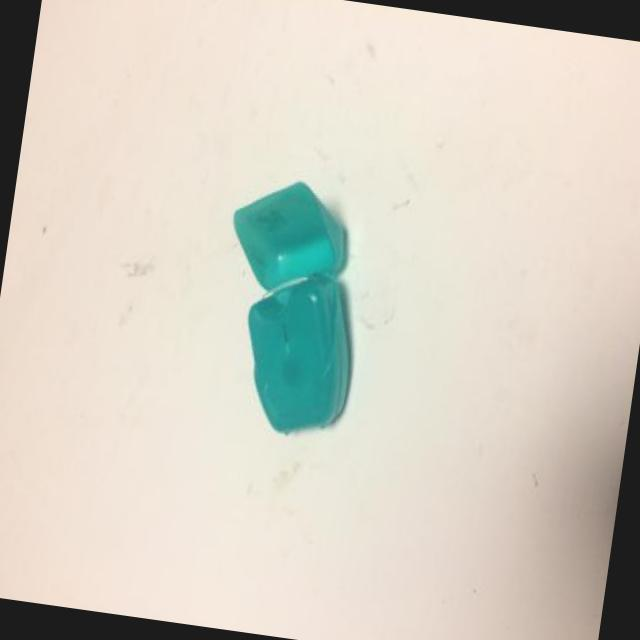Recycle: (204, 175, 378, 443)
